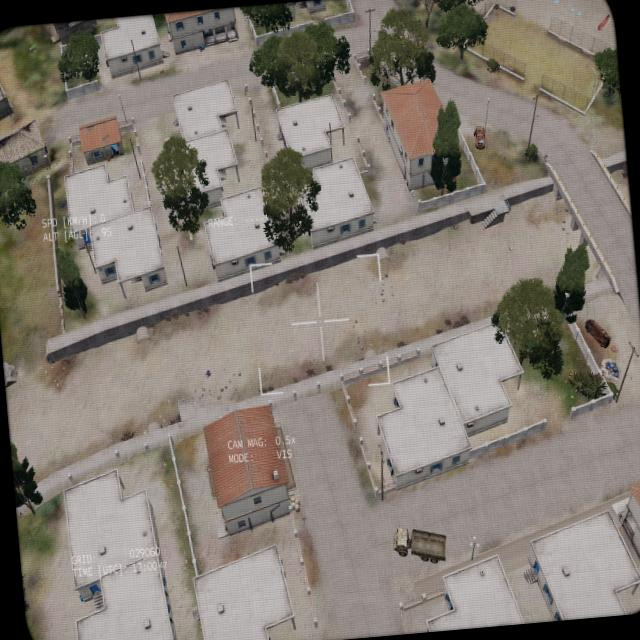truck: (388, 520, 448, 568)
